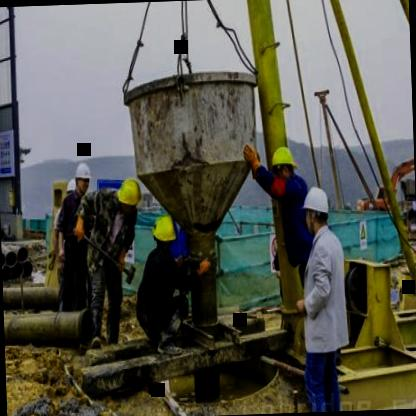helmet: (301, 183, 330, 234), (114, 174, 145, 220), (151, 210, 178, 250), (270, 146, 296, 184), (72, 159, 94, 198)
